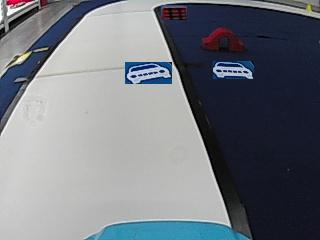bridge: (202, 26, 242, 51)
